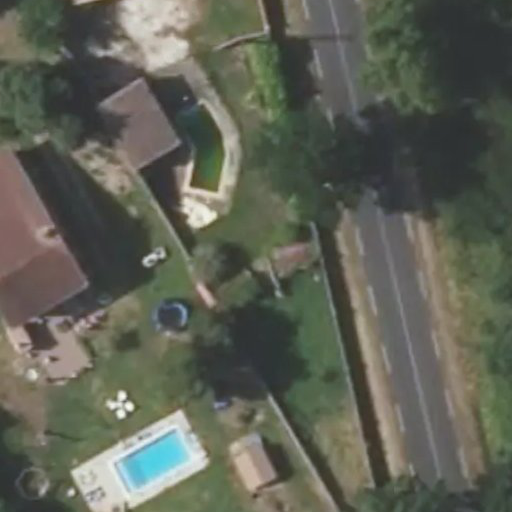pool: (226, 202, 292, 285)
